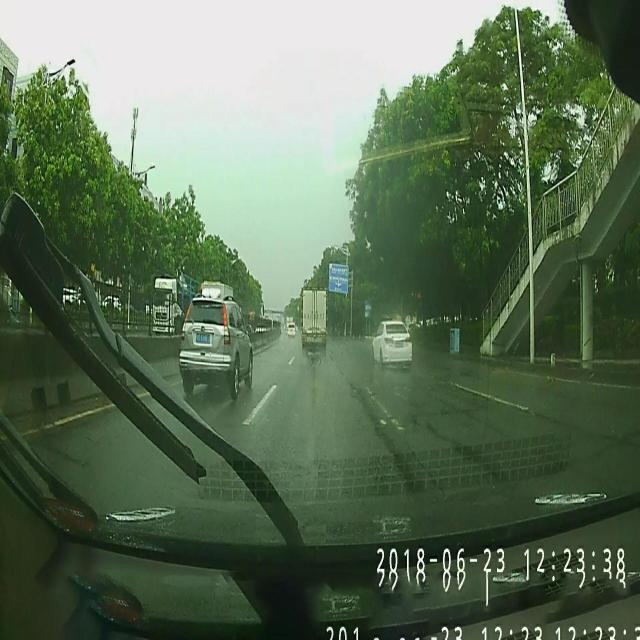car: (179, 296, 252, 398), (370, 322, 412, 368), (287, 322, 295, 338)
